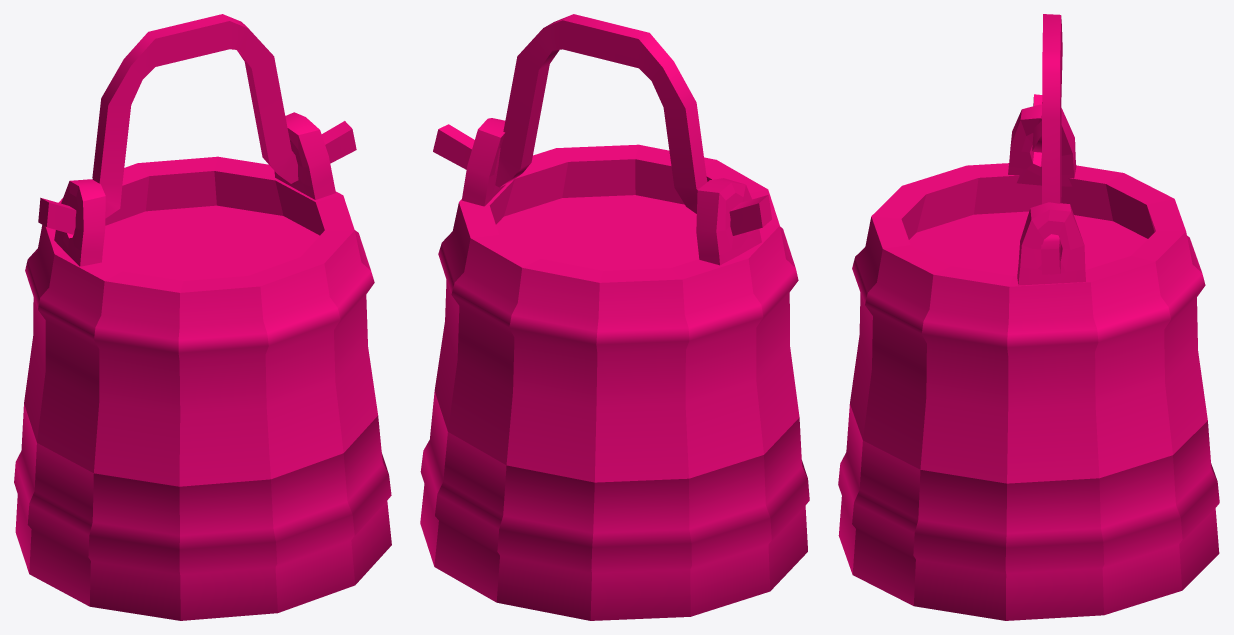
The model's file is SM_SS_Bucket.fbx.
The picture shows the model from 3 angles, left to right: view 1: azimuth 30°, elevation 25°; view 2: azimuth 150°, elevation 25°; view 3: azimuth 270°, elevation 25°; orthographic projection. The views are drawn at different scales.
Parts seen in each view (by area): view 1: SM_SS_Bucket; view 2: SM_SS_Bucket; view 3: SM_SS_Bucket.
Boxes of the visible parts, x1,y1,x2,y2 form: SM_SS_Bucket: (14, 14, 391, 620); SM_SS_Bucket: (420, 14, 809, 620); SM_SS_Bucket: (838, 14, 1219, 620).
Bounding box in the file's own units: 17.71 × 17.68 × 26.31.
